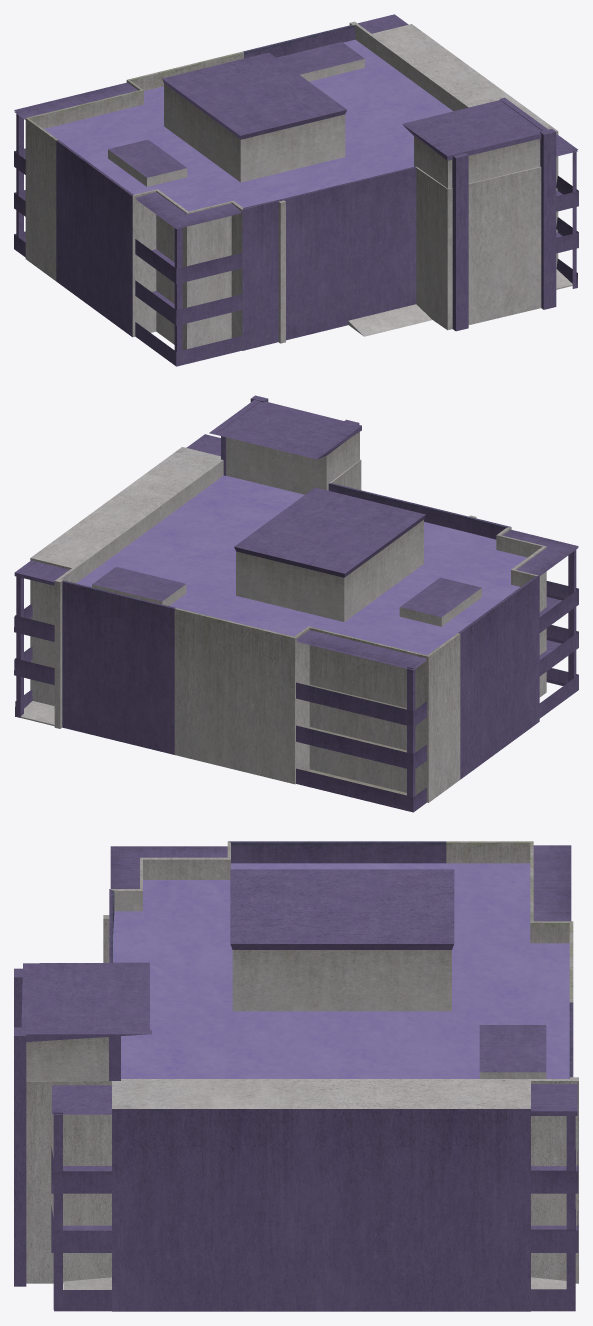
The model's file is ORB_6_Outer_Single_Detail_3.fbx.
The picture shows the model from 3 angles, top to bottom: view 1: azimuth 30°, elevation 25°; view 2: azimuth 150°, elevation 25°; view 3: azimuth 270°, elevation 25°; orthographic projection. The views are drawn at different scales.
Parts seen in each view (by area): view 1: ORB_6_Outer_Single_Detail_3; view 2: ORB_6_Outer_Single_Detail_3; view 3: ORB_6_Outer_Single_Detail_3.
Boxes of the visible parts, <box> form: ORB_6_Outer_Single_Detail_3: <box>14,14,578,366</box>; ORB_6_Outer_Single_Detail_3: <box>14,395,578,812</box>; ORB_6_Outer_Single_Detail_3: <box>14,841,578,1311</box>.
Bounding box in the file's own units: 2886 × 1253 × 2562.
